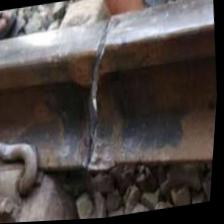person: (17, 4, 176, 186)
